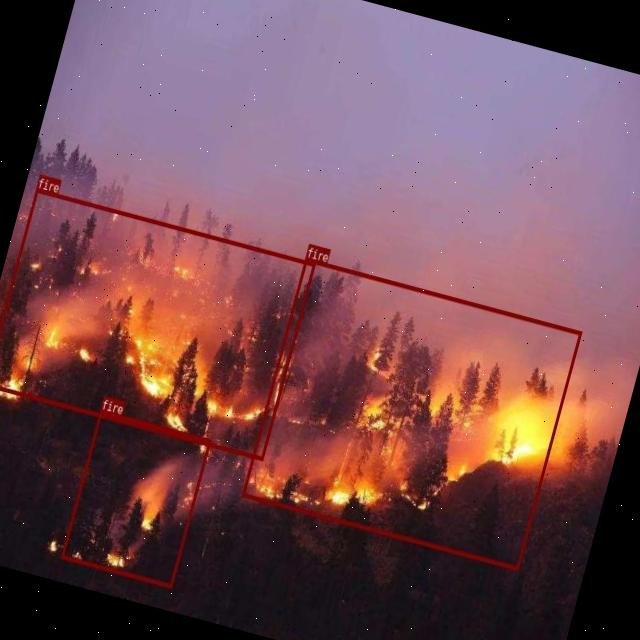fire: (241, 256, 581, 570), (0, 187, 315, 460), (60, 408, 210, 587)
